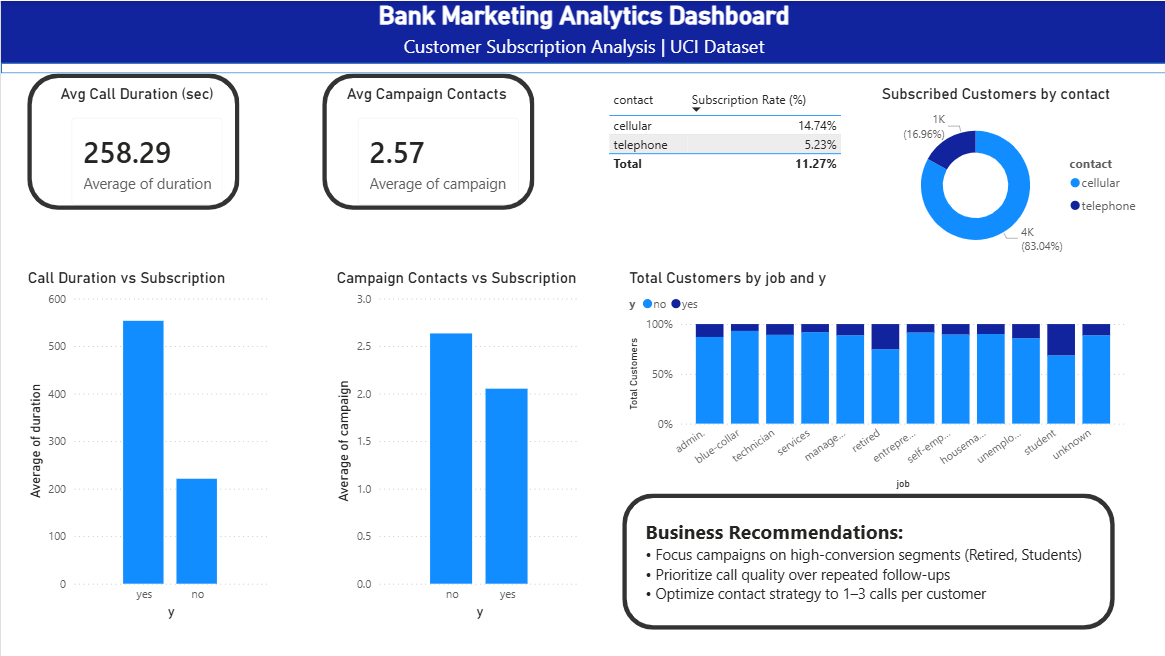

This screenshot's page, from the dashboard's own definition file:
{"tool":"powerbi","page":{"name":"Page 2","canvas":[1280,720],"ordinal":1},"visuals":[{"type":"shape","title":"Bank Marketing Analytics Dashboard","box":[0,0,1280.3,79.1],"z":0},{"type":"cardVisual","title":"Avg Call Duration (sec)","fields":{"Data":["Avg(bank-additional-full.duration)"]},"box":[60.8,91.9,200.7,149.8],"z":1000},{"type":"cardVisual","title":"Avg Campaign Contacts","fields":{"Data":["Avg(bank-additional-full.campaign)"]},"box":[374.5,91.9,212,149.8],"z":2000},{"type":"columnChart","title":"Call Duration vs Subscription","fields":{"Category":["bank-additional-full.y"],"Y":["Avg(bank-additional-full.duration)"]},"box":[24,293.9,272.7,390],"z":3000},{"type":"columnChart","title":"Campaign Contacts vs Subscription","fields":{"Category":["bank-additional-full.y"],"Y":["Avg(bank-additional-full.campaign)"]},"box":[363.2,293.9,277,390],"z":4000},{"type":"hundredPercentStackedColumnChart","fields":{"Category":["bank-additional-full.job"],"Series":["bank-additional-full.y"],"Y":["bank-additional-full.Total Customers"]},"box":[685.4,293.9,553.9,247.3],"z":5000},{"type":"textbox","box":[702.3,562.4,520,121.5],"z":6000},{"type":"tableEx","fields":{"Values":["bank-additional-full.contact","bank-additional-full.Subscription Rate (%)"]},"box":[661.3,91.9,275.6,149.8],"z":7000},{"type":"donutChart","fields":{"Category":["bank-additional-full.contact"],"Y":["bank-additional-full.Subscribed Customers"]},"box":[962.3,91.9,298.2,202.1],"z":8000},{"type":"shape","box":[28.3,79.1,233.2,149.8],"z":9000},{"type":"shape","box":[353.3,79.1,233.2,149.8],"z":10000},{"type":"shape","box":[682,540.7,540.7,149.6],"z":11000}]}

Visuals, with their boxes in screenshot pixels (x1, y1, x2, y2), scaled from the page's 1280x720 canvas onto the 1165x656 screenshot:
"Bank Marketing Analytics Dashboard" shape: 0 0 1164 72
"Avg Call Duration (sec)" cardVisual: 55 84 238 220
"Avg Campaign Contacts" cardVisual: 341 84 534 220
"Call Duration vs Subscription" columnChart: 22 268 270 623
"Campaign Contacts vs Subscription" columnChart: 331 268 583 623
hundredPercentStackedColumnChart - bank-additional-full.job x bank-additional-full.y: 624 268 1128 493
textbox: 639 512 1112 623
tableEx - bank-additional-full.contact x bank-additional-full.Subscription Rate (%): 602 84 853 220
donutChart - bank-additional-full.contact x bank-additional-full.Subscribed Customers: 876 84 1147 268
shape: 26 72 238 209
shape: 322 72 534 209
shape: 621 493 1113 629
